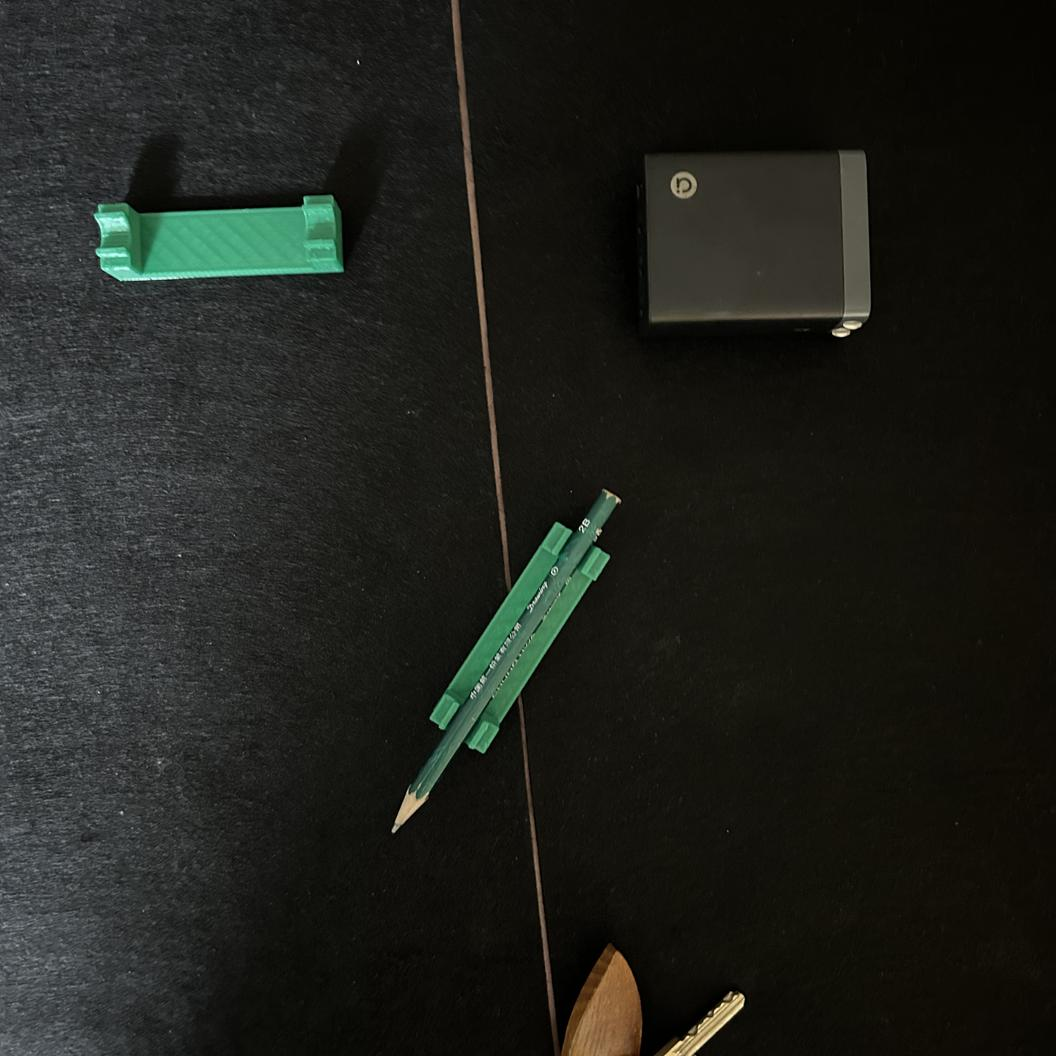X: (390, 487, 625, 834)
holder: (426, 521, 613, 754), (92, 194, 344, 281)
pencil: (390, 487, 626, 834)
